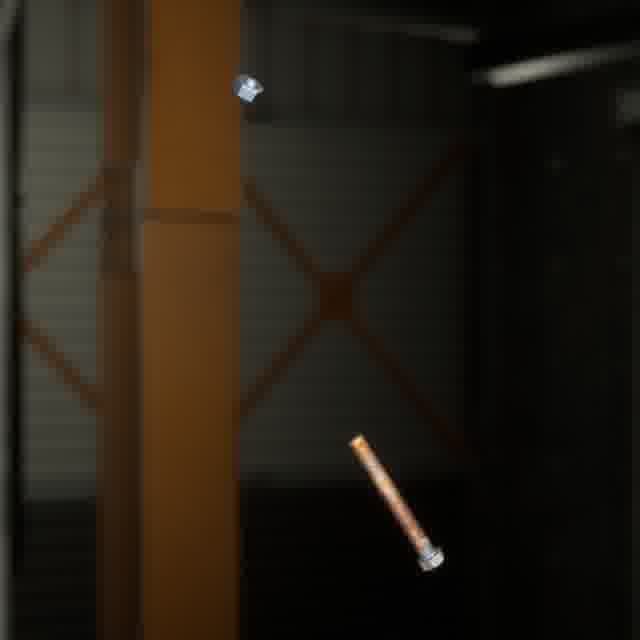bolt: (344, 429, 448, 575)
nut: (226, 70, 268, 106)
